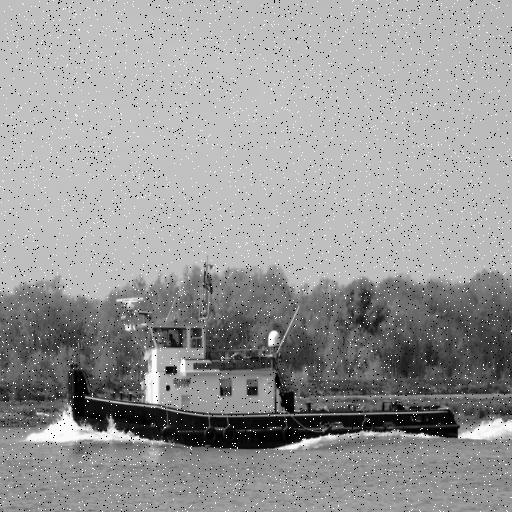tugboat: (64, 292, 472, 455)
